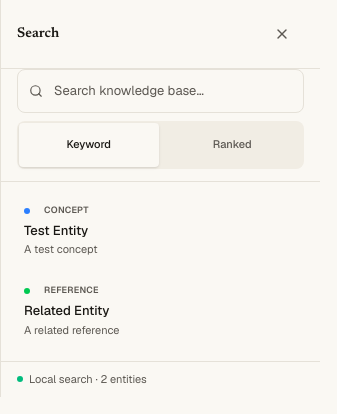
Test case: RightPanel branch coverage › SearchPanel ranked mode › renders ranked entity results with meta label
Click the button "Ranked": (232, 145) [162,123,302,167]
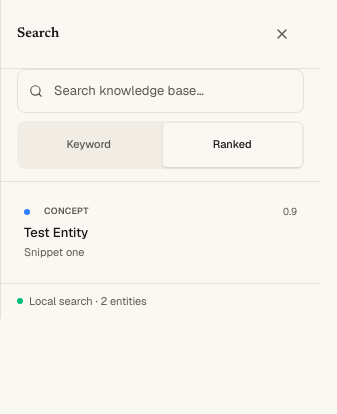
Expected: the text "Concept" is shown, [44,205,89,217]
Expected: the text "Snippet one" is shown, [24,244,84,258]
Expected: the text "0.9" is shown, [283,205,297,219]
